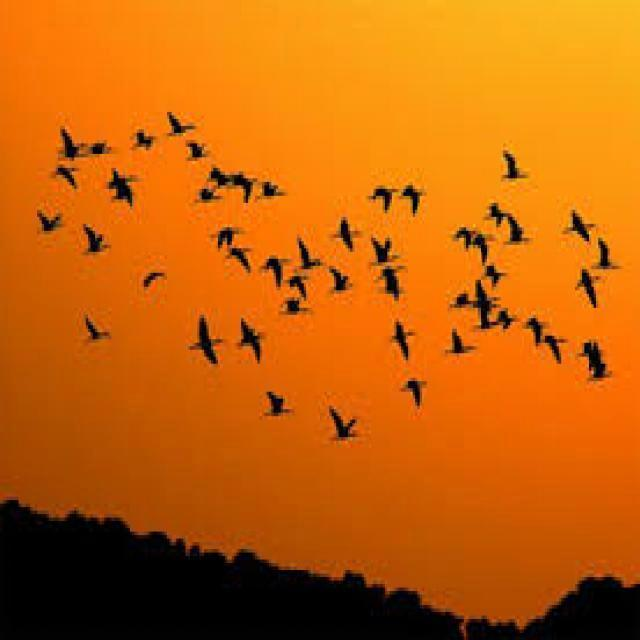bird: (554, 196, 610, 252), (324, 397, 366, 460), (189, 322, 233, 382), (24, 200, 71, 256), (80, 303, 131, 352), (207, 148, 261, 194), (234, 312, 274, 374), (74, 208, 114, 268), (366, 228, 415, 274), (394, 168, 427, 234), (368, 161, 398, 231), (329, 210, 371, 259), (48, 146, 82, 206), (440, 323, 478, 376), (492, 142, 534, 187), (160, 106, 207, 146), (378, 314, 418, 360), (581, 339, 618, 388), (566, 271, 608, 313), (263, 390, 307, 428), (139, 257, 181, 296), (594, 230, 624, 284), (329, 262, 364, 308), (518, 290, 546, 346), (483, 299, 523, 338), (479, 185, 507, 238), (544, 327, 570, 383), (446, 278, 482, 317), (44, 120, 74, 166), (469, 234, 512, 266), (255, 171, 290, 210), (78, 130, 118, 164), (102, 170, 142, 204), (400, 374, 432, 416), (120, 122, 161, 154), (503, 216, 531, 262), (256, 246, 291, 282), (280, 299, 318, 331), (205, 220, 242, 252), (446, 217, 476, 256), (376, 266, 409, 301), (230, 240, 258, 278), (296, 238, 324, 276), (180, 140, 206, 175), (191, 180, 224, 201), (482, 256, 504, 286), (290, 269, 313, 294)
